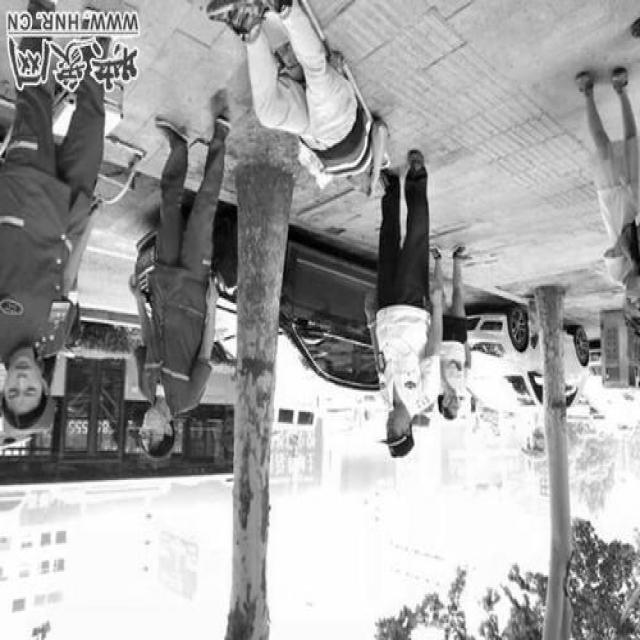nofight: (2, 16, 109, 446), (125, 99, 234, 464), (192, 12, 403, 198), (367, 159, 436, 460), (586, 56, 640, 342), (436, 246, 476, 424)
